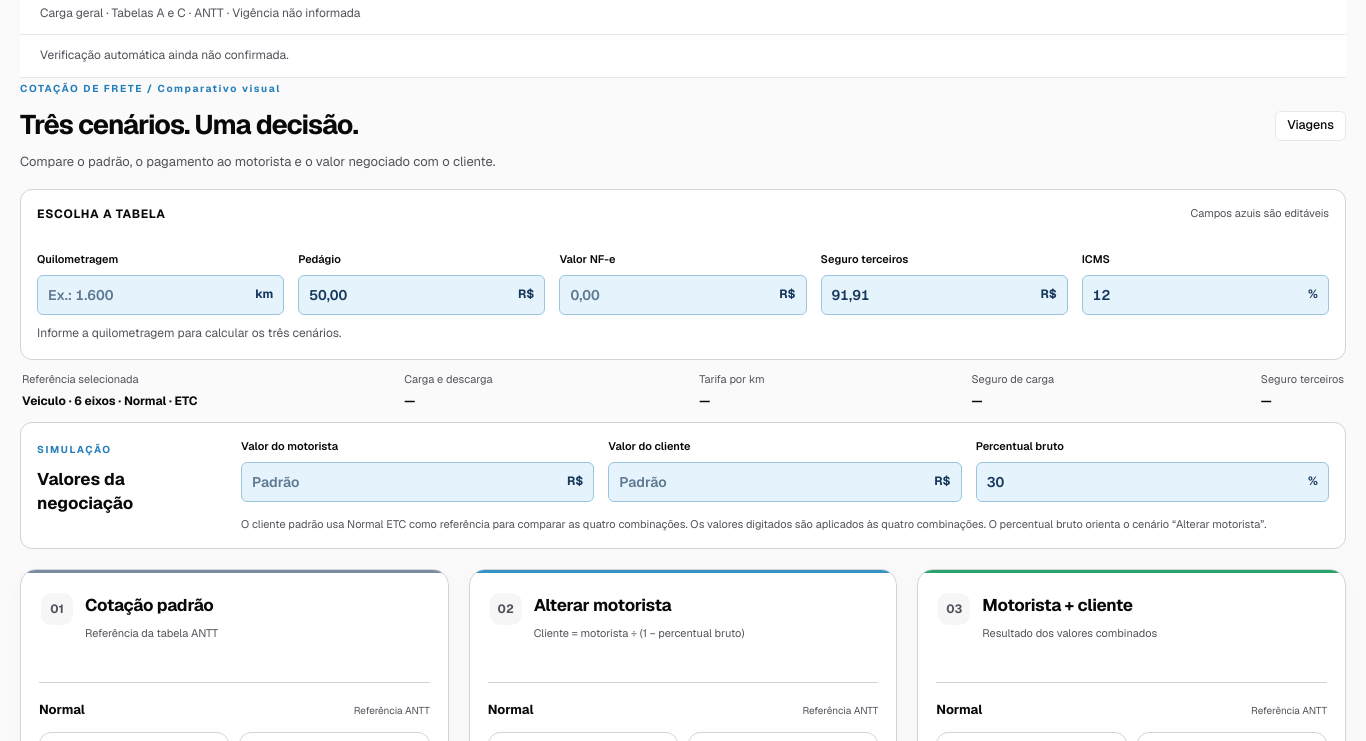
Test case: ignores late results from the previous distance
This screenshot has width=1366, height=741.
In the field labelled "Quilometragem": (147, 295) x1=38 y1=276 x2=255 y2=314, type "1600"
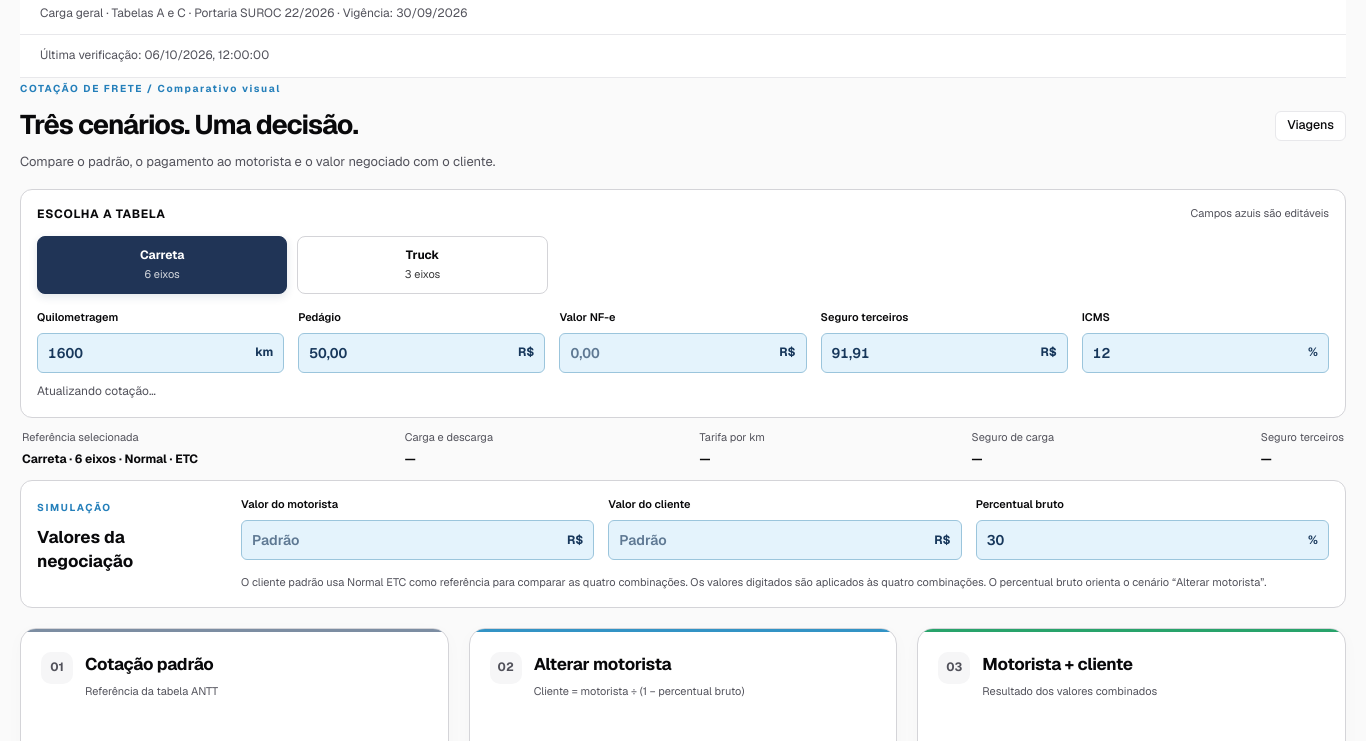
Replace the text in the field labelled "Quilometragem" with "1800": (147, 353) x1=38 y1=334 x2=255 y2=372
(page scrolled)
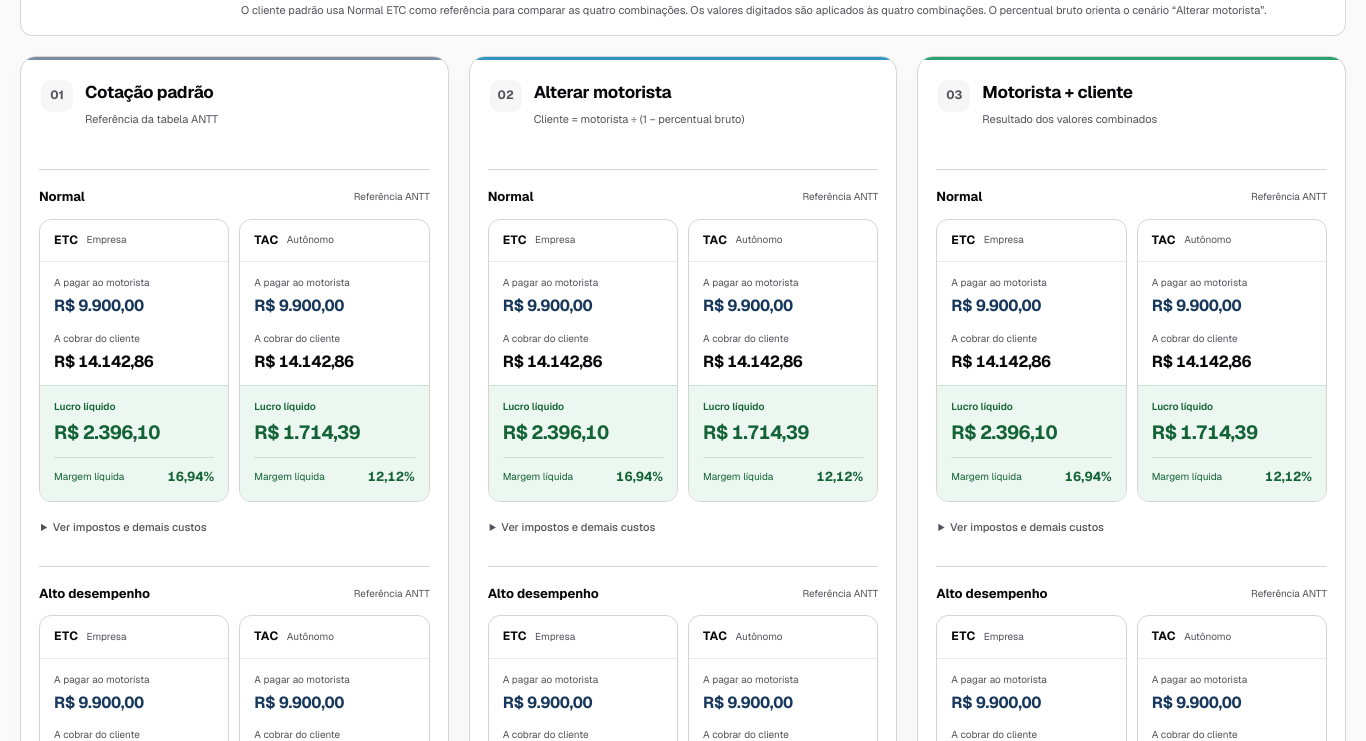
Now the element named "Cotação padrão · Normal" shows "9.900,00", box x1=54 y1=295 x2=144 y2=316
